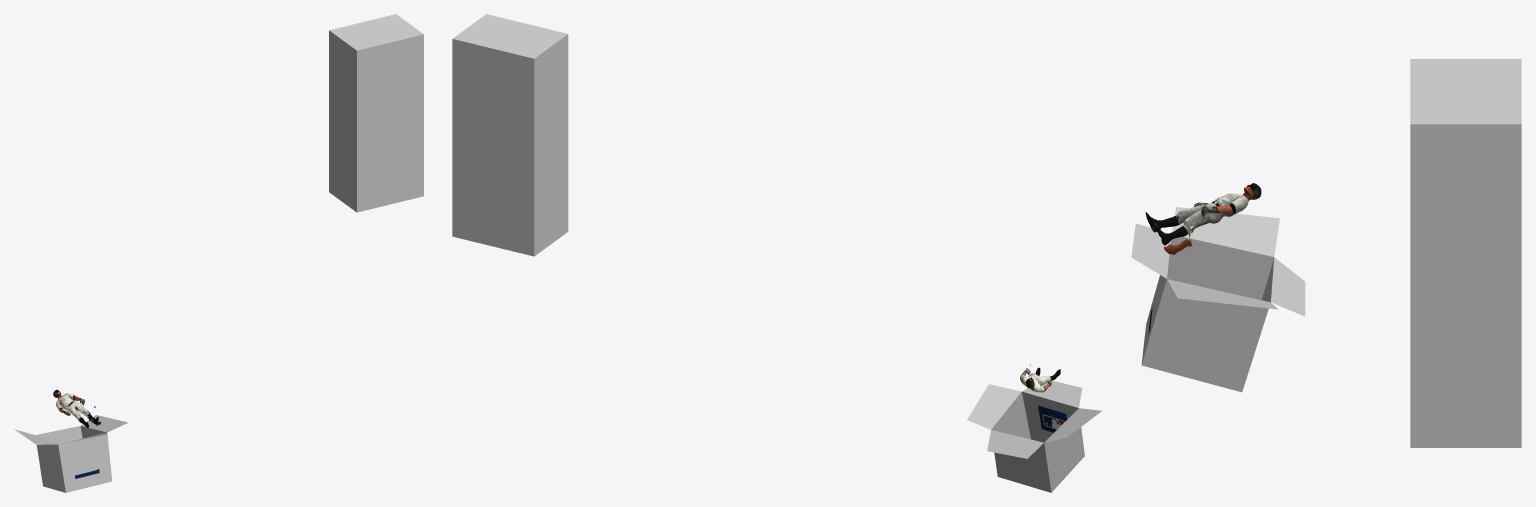
File: boxtmp 1.fbx
3 views of the same model, side by side, from view 1: azimuth 30°, elevation 25°; view 2: azimuth 150°, elevation 25°; view 3: azimuth 270°, elevation 25° (orthographic). The views are drawn at different scales.
Parts seen in each view (by area): view 1: Cube.001, Cube, result_c-removebg-preview_256; view 2: Cube.001, Cube; view 3: Cube.001, Cube, result_c-removebg-preview_256.
Boxes of the visible parts, <box> form: Cube.001: <box>329,14,423,212</box>; Cube: <box>14,415,128,492</box>; result_c-removebg-preview_256: <box>53,389,101,427</box>; Cube.001: <box>452,14,568,256</box>; Cube: <box>967,380,1101,492</box>; Cube.001: <box>1410,59,1521,447</box>; Cube: <box>1131,207,1305,392</box>; result_c-removebg-preview_256: <box>1145,183,1261,254</box>.
Size of the model in its own units: 446 by 305 by 169.
